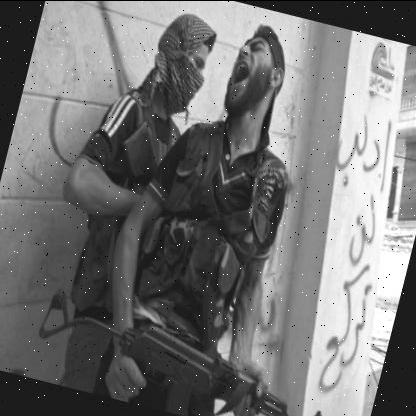rifle: (24, 276, 341, 416)
